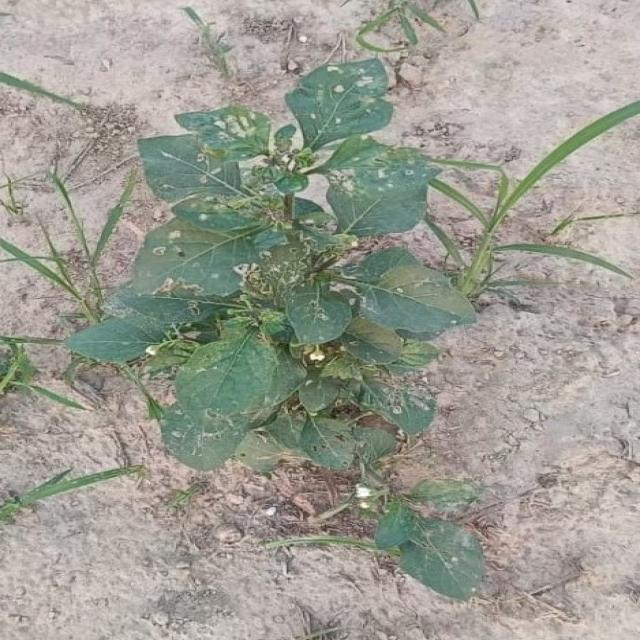weed: (66, 58, 476, 471), (378, 500, 483, 600)
